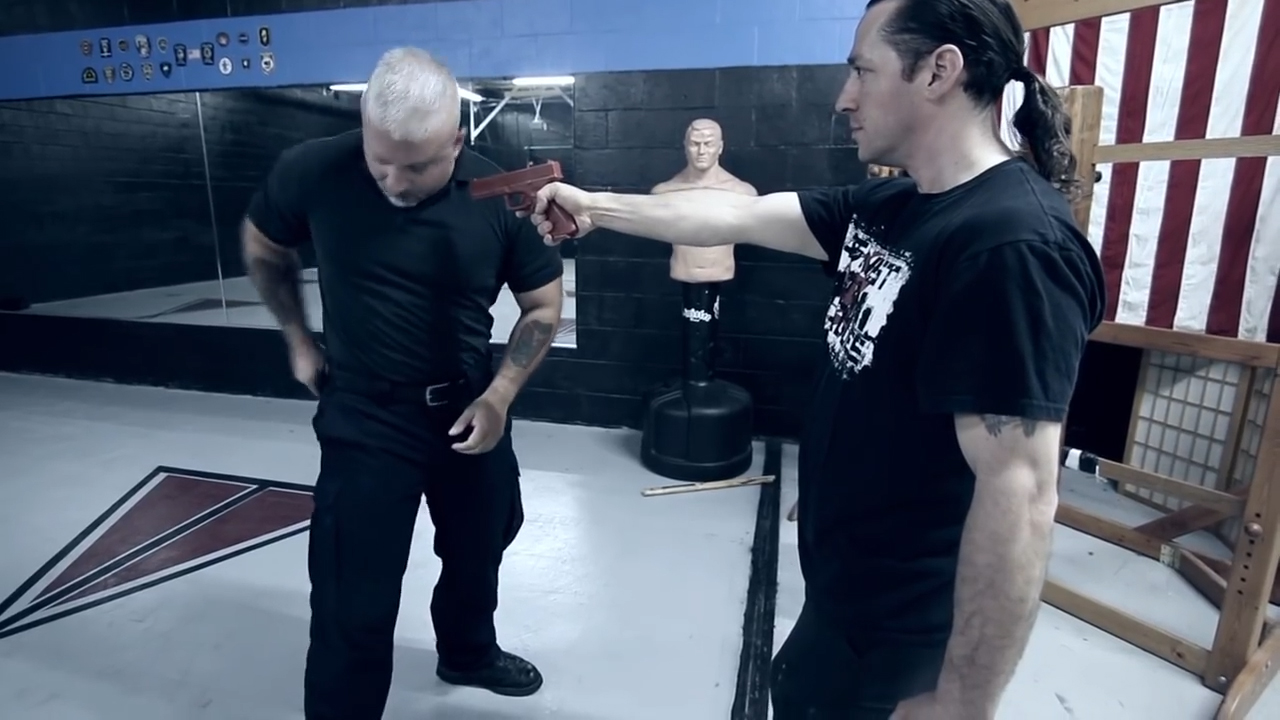pistol: (467, 158, 580, 241)
